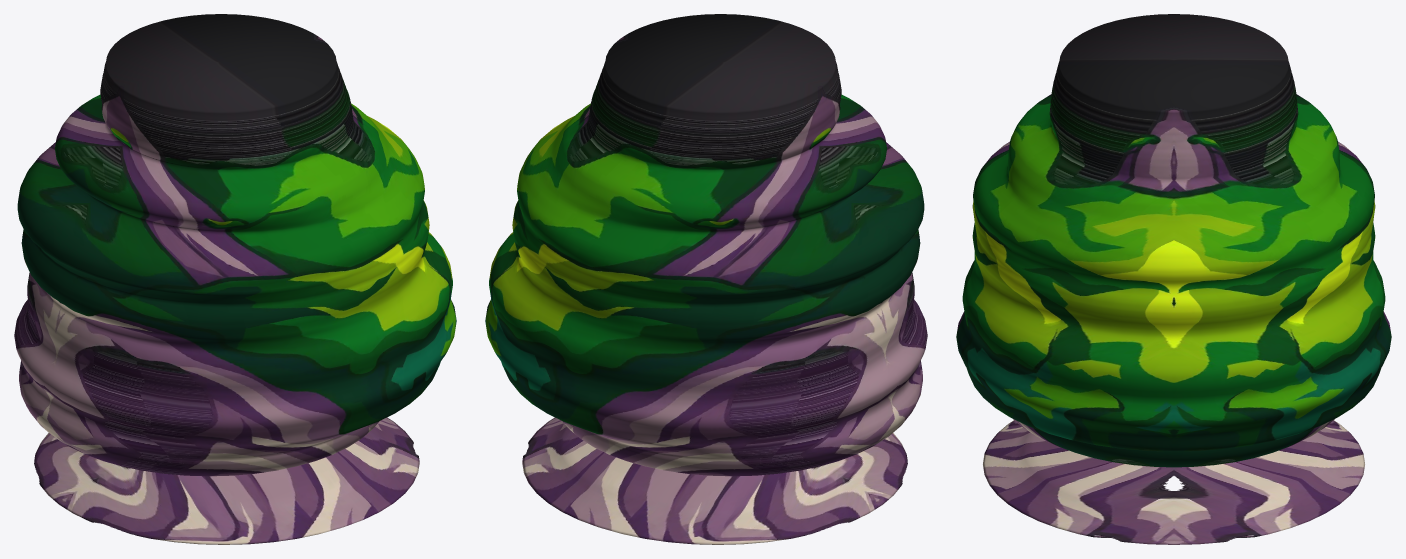
The model's file is crystal_tree.glb.
3 renders of one model, left to right at view 1: azimuth 30°, elevation 25°; view 2: azimuth 150°, elevation 25°; view 3: azimuth 270°, elevation 25°, orthographic.
Visible parts, largest first — view 1: crystal_tree; view 2: crystal_tree; view 3: crystal_tree.
Boxes of the visible parts, box(x1,y1,x2,y2) form: crystal_tree: box(14, 14, 456, 544); crystal_tree: box(485, 14, 927, 544); crystal_tree: box(956, 14, 1391, 544).
Size of the model in its own units: 0.9956 by 1.06 by 0.9831.
Materials: 1 (1 with a texture image).
